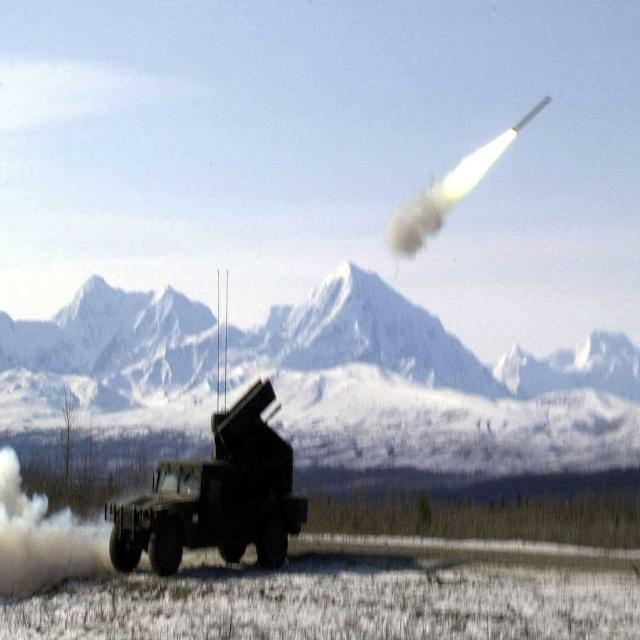missile: (508, 80, 561, 146)
